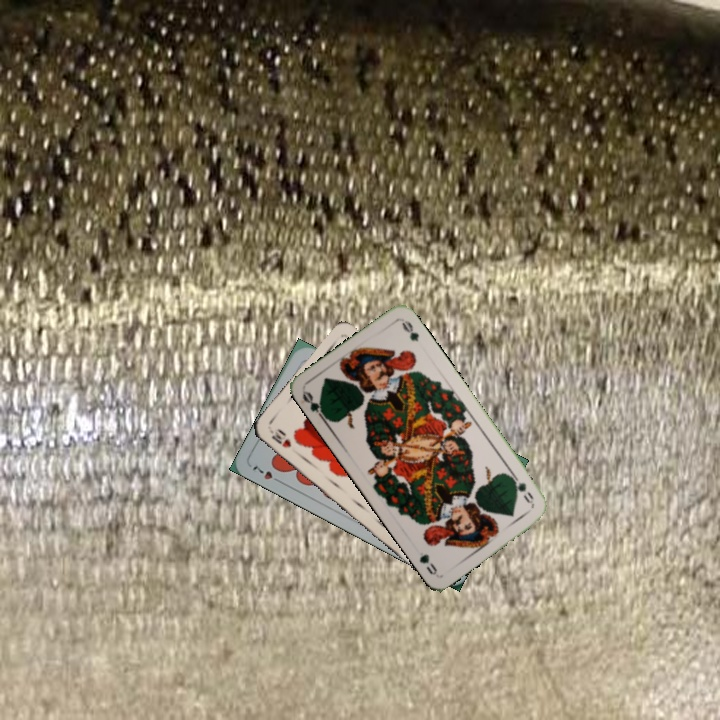GO: (298, 387, 330, 424), (506, 470, 537, 507)
H10: (266, 424, 294, 450)
H7: (248, 462, 285, 486)
